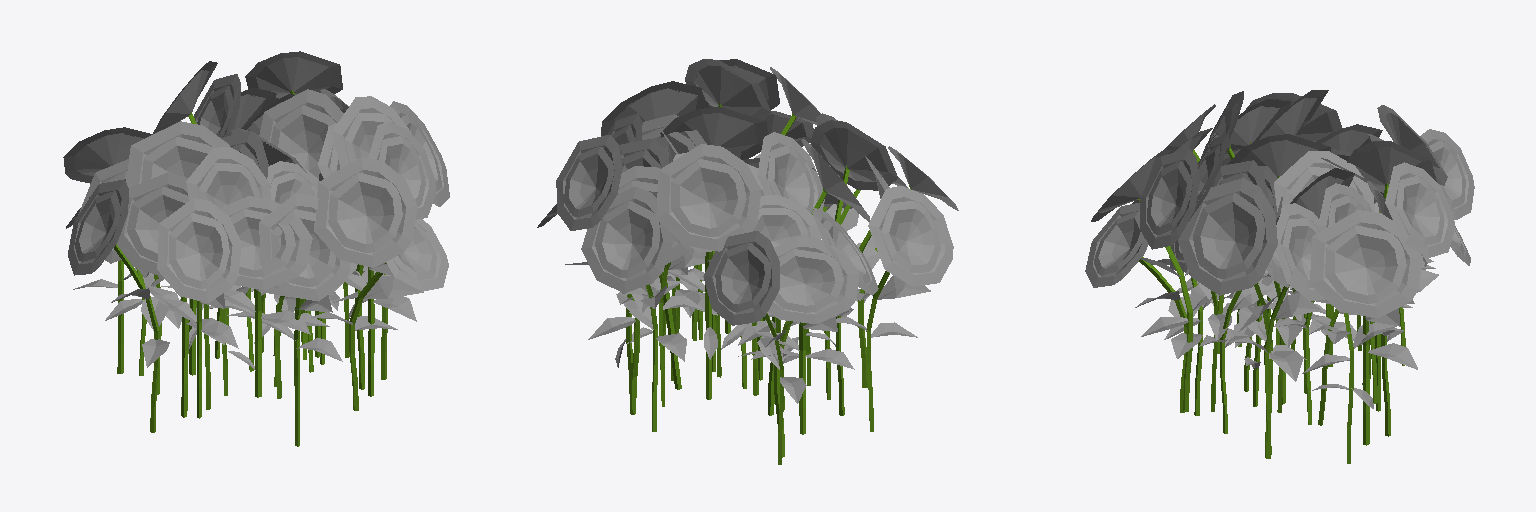
The picture shows the model from 3 angles: view 1: azimuth 30°, elevation 25°; view 2: azimuth 150°, elevation 25°; view 3: azimuth 270°, elevation 25°; orthographic projection.
Visible parts, largest first — view 1: flower_yellow; view 2: flower_yellow; view 3: flower_yellow.
Boxes of the visible parts, x1,y1,x2,y2 form: flower_yellow: [63, 51, 449, 446]; flower_yellow: [537, 59, 958, 464]; flower_yellow: [1085, 90, 1474, 463].
Bounding box in the file's own units: 0.5421 × 0.4667 × 0.5173.
Materials: 3 (1 with a texture image).